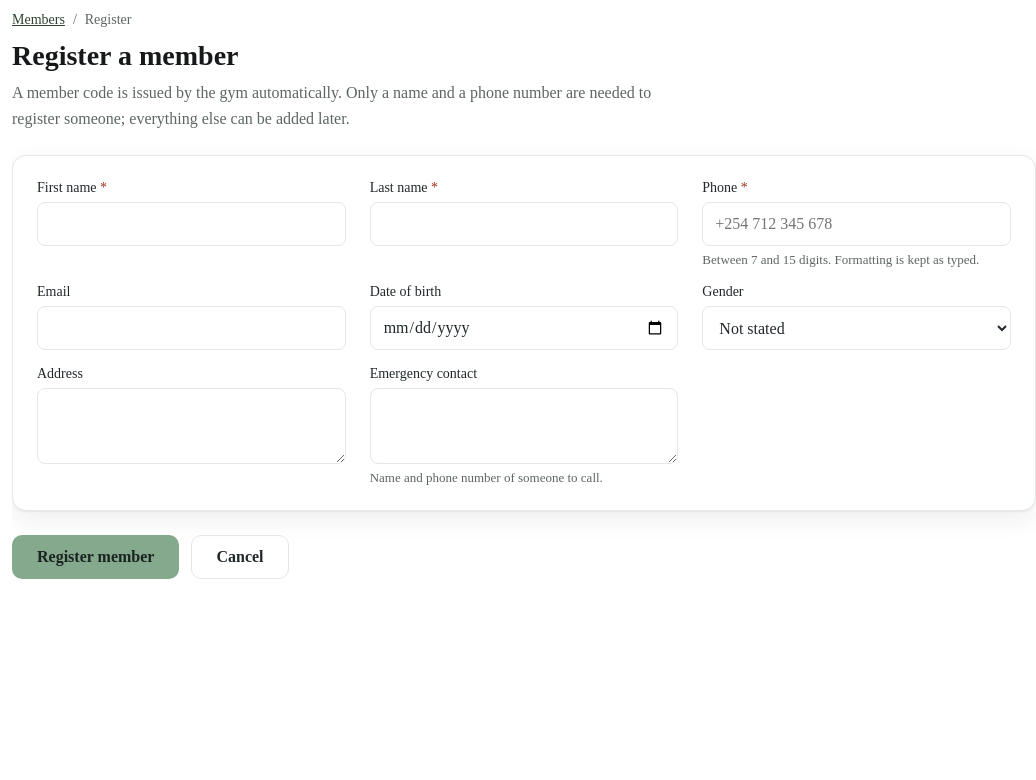
Test case: registering a member › reports an expired session instead of posting
Type "Grace" into the field labelled "First name *". click: coordinates (191, 224)
box: [37,202,346,246]
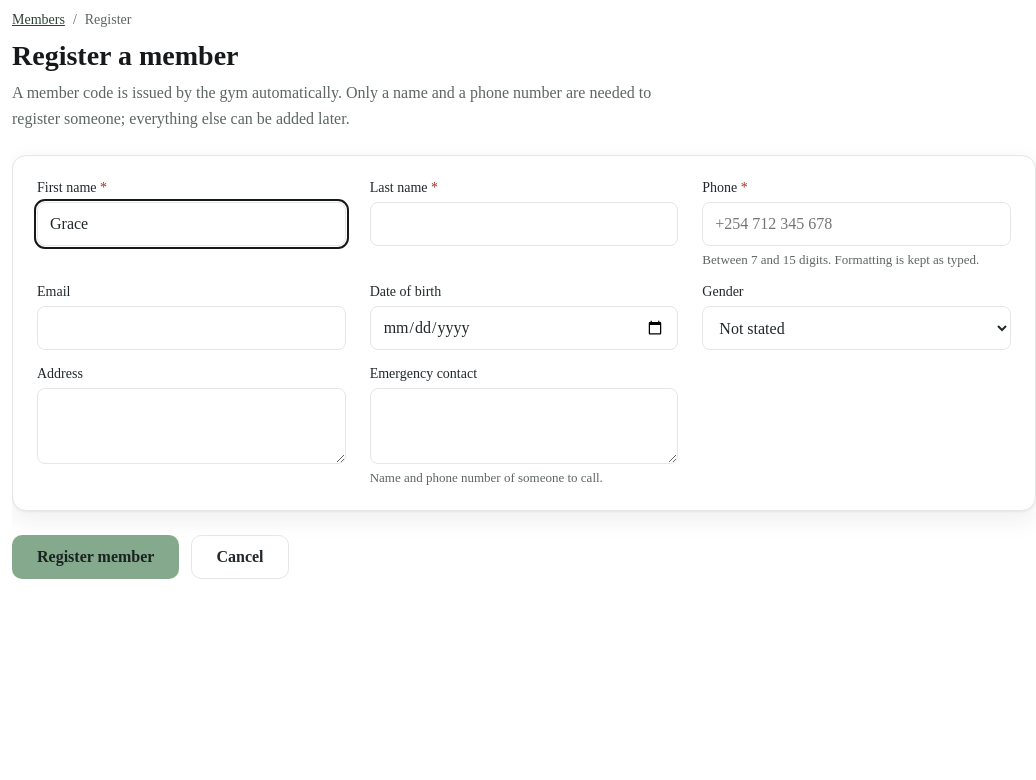
Type "Wanjiku" into the field labelled "Last name *". click: coordinates (524, 224)
box: [370,202,678,246]
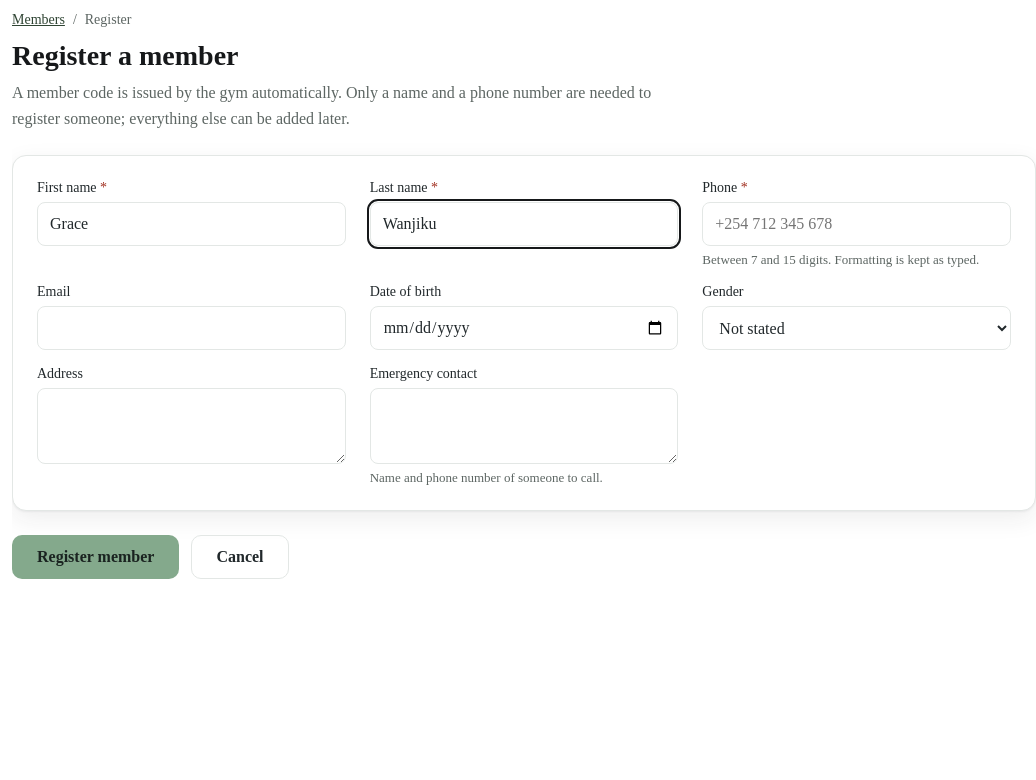
Type "+254712345678" into the field labelled "Phone *". click: coordinates (857, 224)
box: [702,202,1011,246]
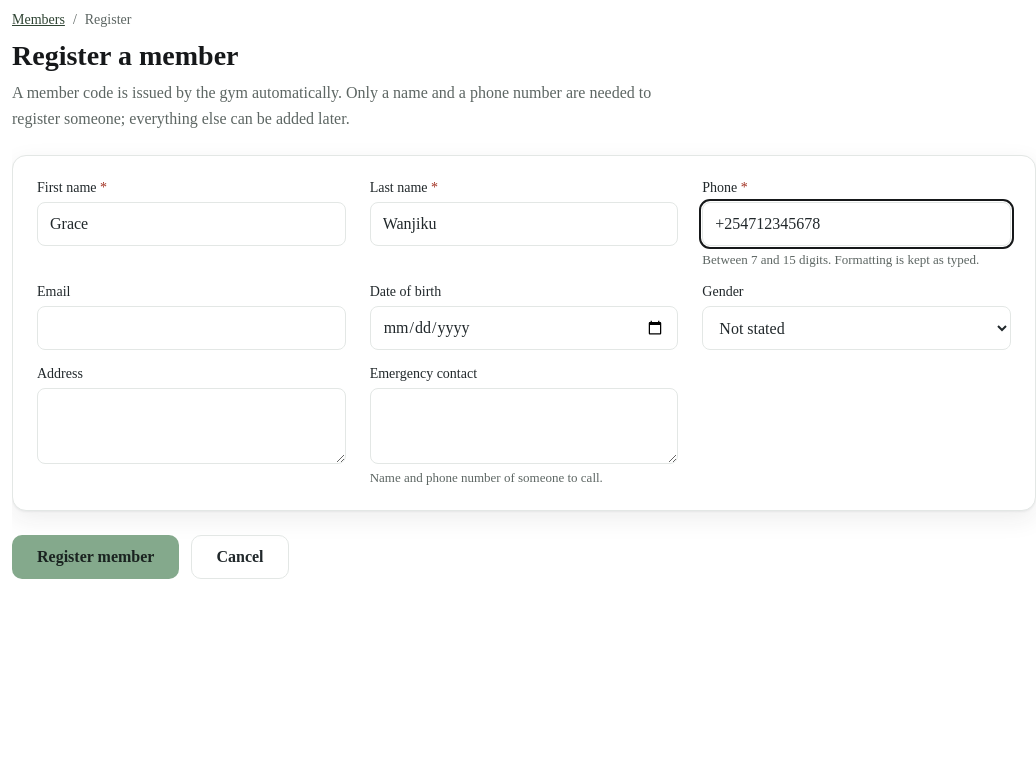
Click the button "Register member". click: coordinates (96, 557)
box: [12,535,179,579]
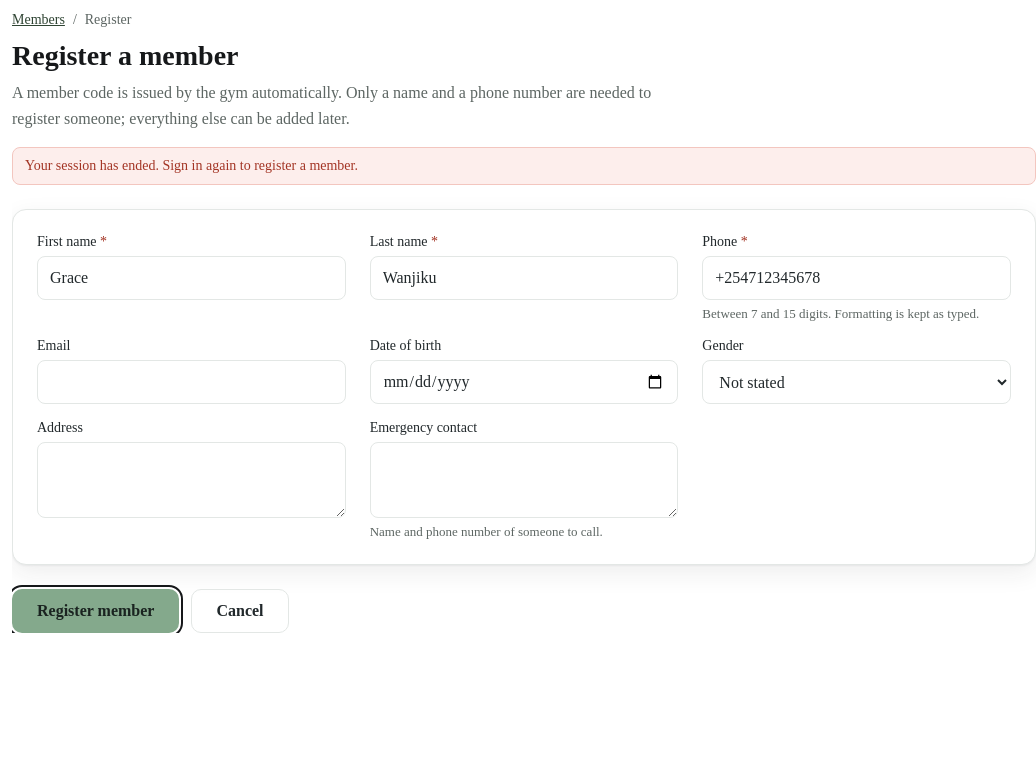
expect the text "Your session has ended. Sign in again to register a member." is shown: met, box [12,147,1035,185]
